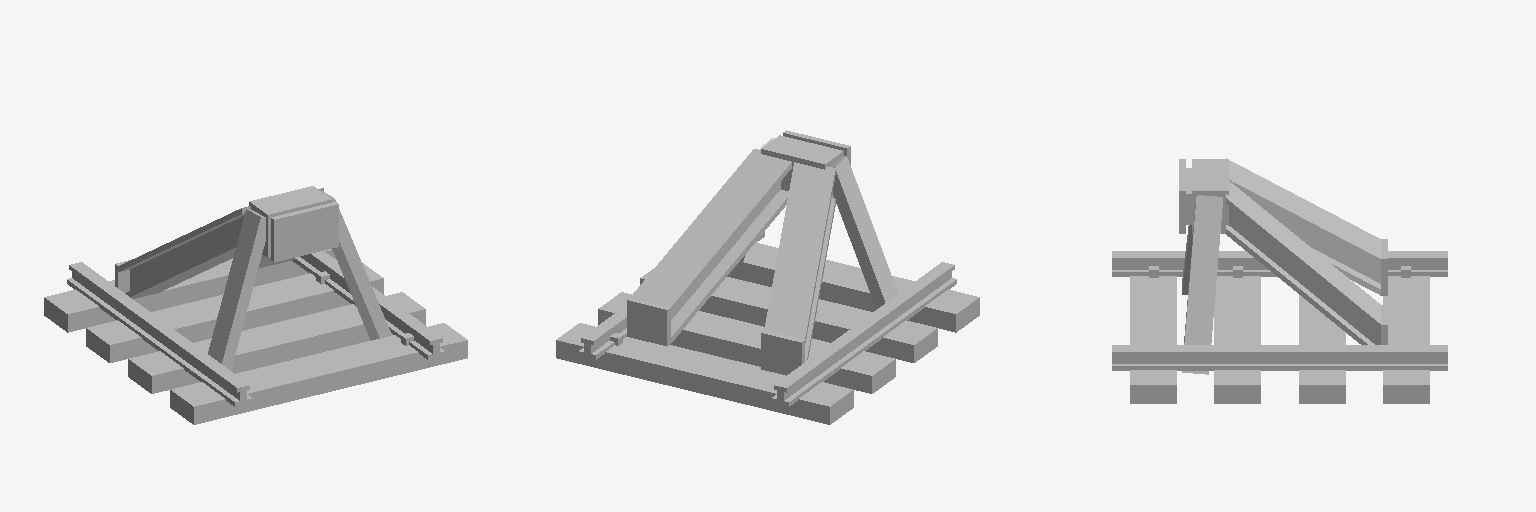
The model's file is american_bumper.obj.
3 renders of one model, left to right at view 1: azimuth 30°, elevation 25°; view 2: azimuth 150°, elevation 25°; view 3: azimuth 270°, elevation 25°, orthographic.
Parts seen in each view (by area): view 1: track_normal.001; view 2: track_normal.001; view 3: track_normal.001.
Part boxes in pixels (x1,y1,x2,y2): track_normal.001: (44,186,467,424); track_normal.001: (556,130,979,424); track_normal.001: (1112,158,1447,403).
Bounding box in the file's own units: 0.94 × 0.53 × 1.